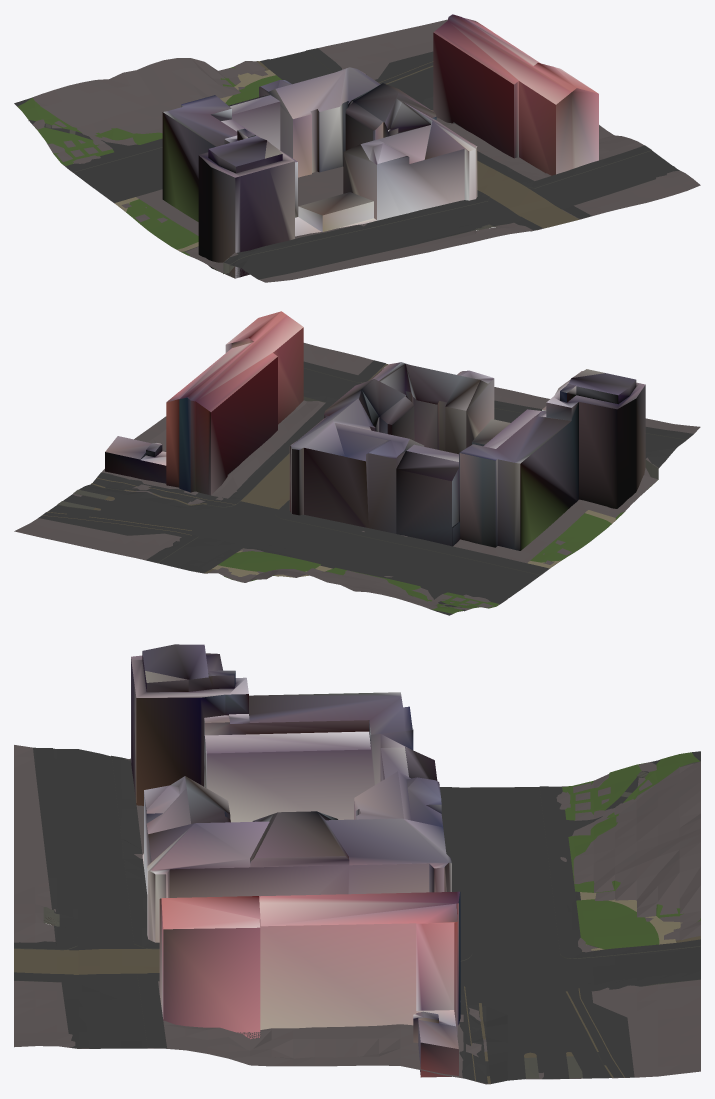
3 renders of one model, top to bottom at view 1: azimuth 30°, elevation 25°; view 2: azimuth 150°, elevation 25°; view 3: azimuth 270°, elevation 25°, orthographic. The views are drawn at different scales.
Visible parts, largest first — view 1: c_m03_m15; view 2: c_m03_m15; view 3: c_m03_m15.
Boxes of the visible parts, x1=… form: c_m03_m15: x1=14, y1=14, x2=700, y2=282; c_m03_m15: x1=14, y1=311, x2=700, y2=615; c_m03_m15: x1=14, y1=644, x2=700, y2=1084.
Size of the model in its own units: 128 by 32.98 by 128.
